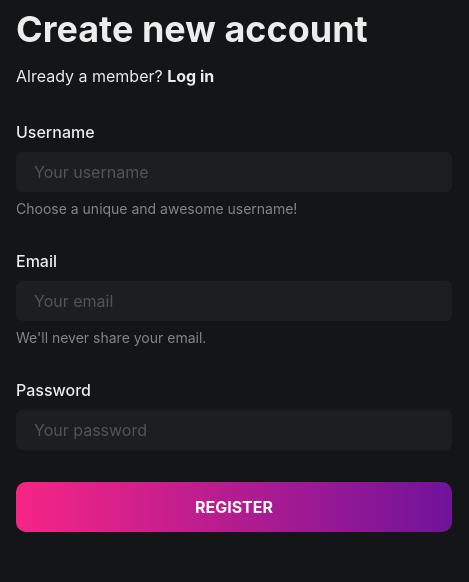
Test: Register › fails due to weak password
In the field named "username": [234, 172] box [16,152,452,192], type "username"
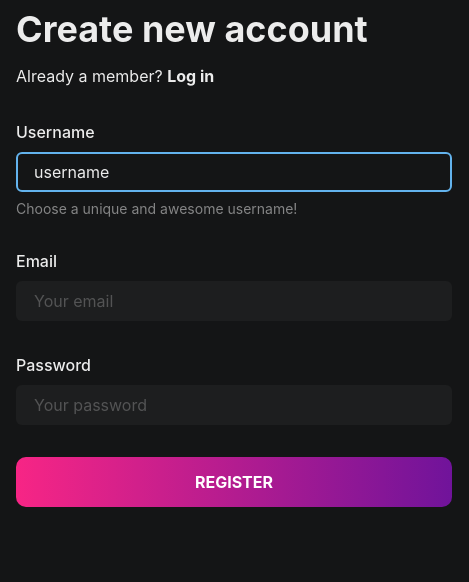
In the field named "email": [234, 301] box [16,281,452,321], type "test@mail.com"
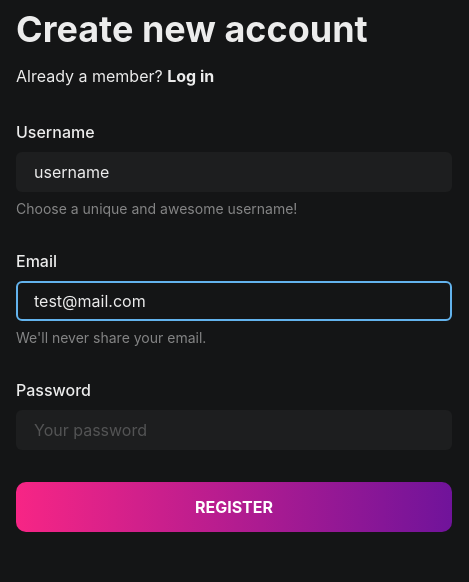
In the password field named "password": [234, 430] box [16,410,452,450], type "password"
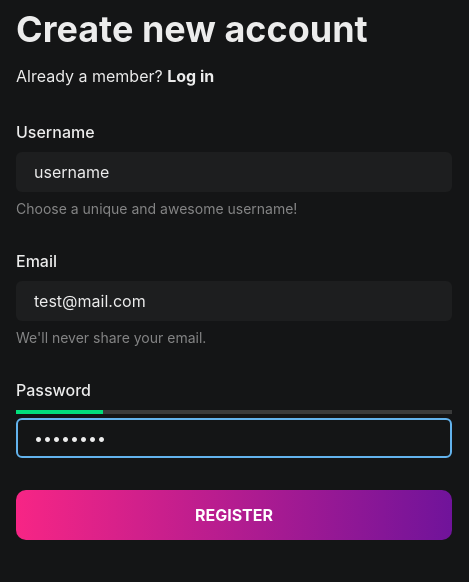
Click the button "Register": [234, 515] box [16,490,452,540]
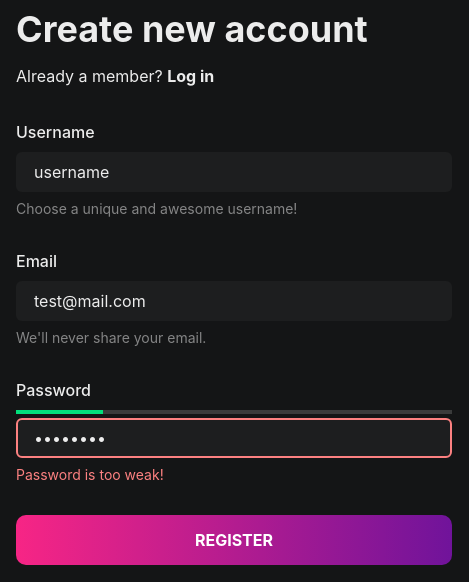
Now the text "Password is too weak!" is shown, box [16,466,164,483]
